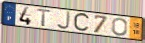4: (18, 6, 32, 26)
7: (93, 14, 109, 35)
C: (72, 12, 91, 33)
J: (56, 11, 71, 31)
O: (111, 17, 129, 37)
T: (36, 8, 53, 28)
